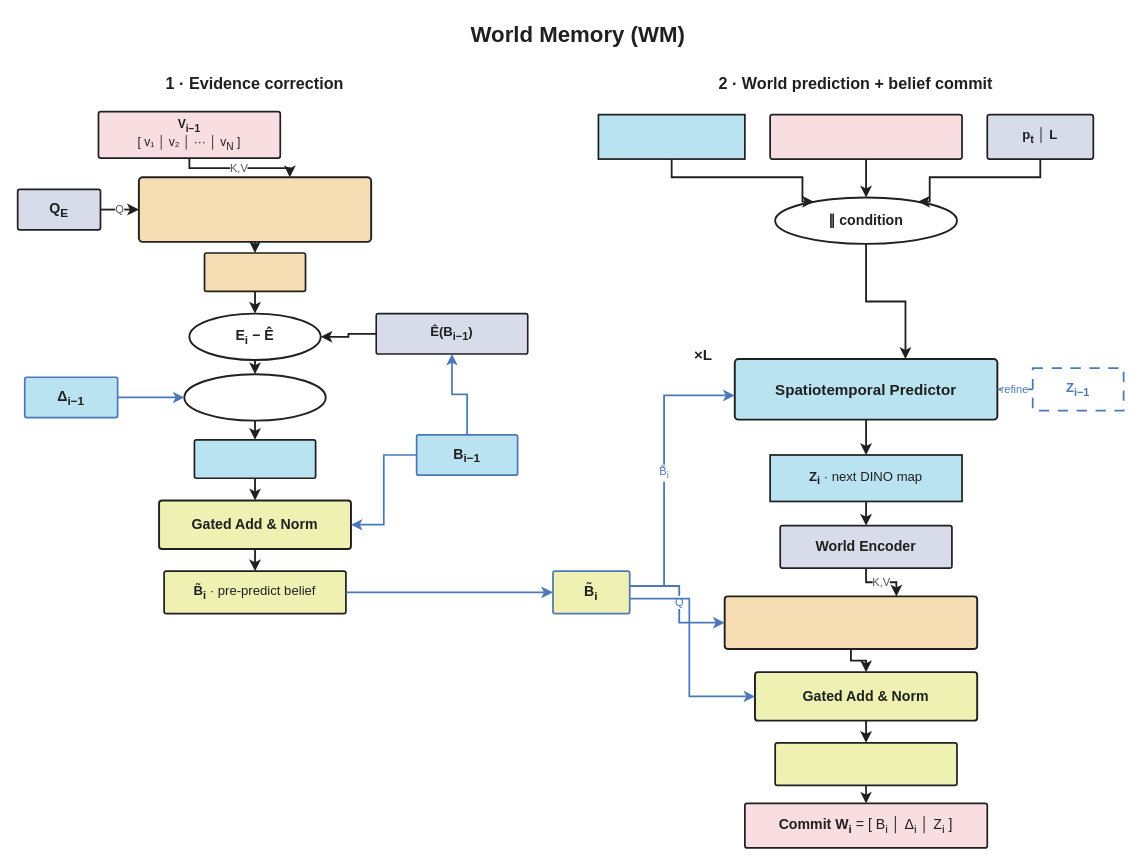
The diagram is 1142 pixels wide and 866 high, and some of its shapes have lost their labels. Here are the shapes that lost their labels. From the top down, the centre of each, then its label:
At (671,136): "D t · DINO map".
At (865,136): "û 1:H = Readout(A i−1 )".
At (254,209): "Cross-Attention softmax(QKᵀ/√d)V".
At (254,272): "E i".
At (254,397): "Proj⊥Δ i−1".
At (254,459): "innovation Δ i".
At (850,622): "Map Cross-Attention".
At (865,764): "B i · committed belief".
